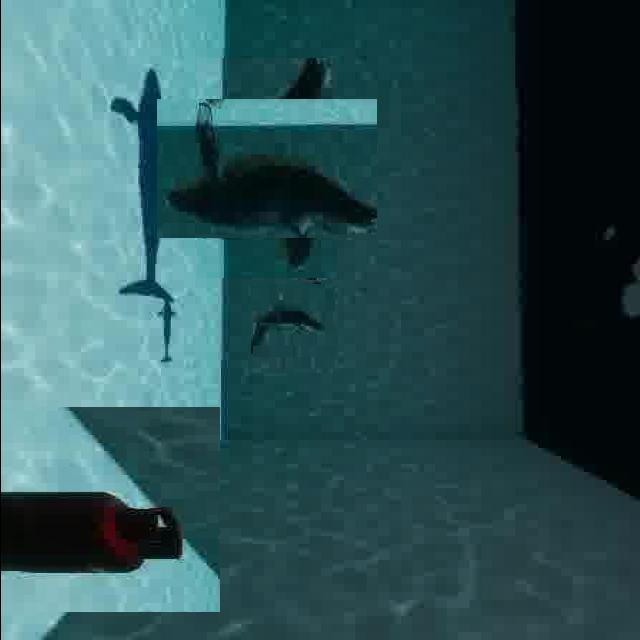Cylinder: (0, 407, 219, 612)
Whale: (176, 78, 356, 258), (248, 284, 336, 372)
